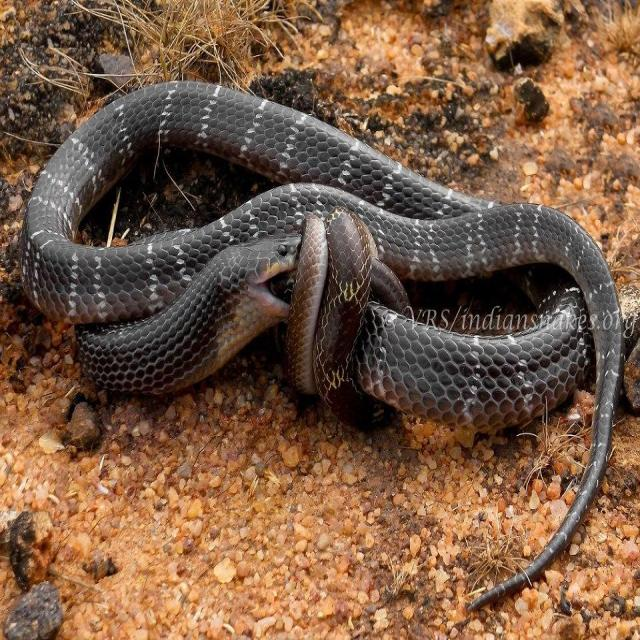Snake: (19, 77, 625, 612)
